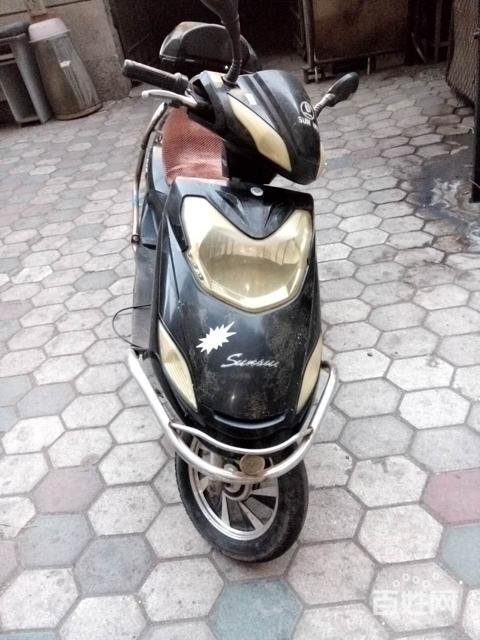电动车: (111, 1, 369, 571)
